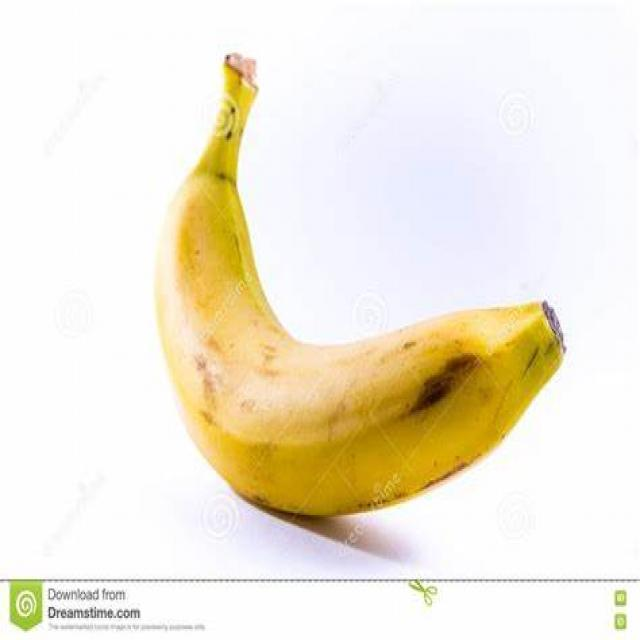Banana: (148, 49, 566, 514)
